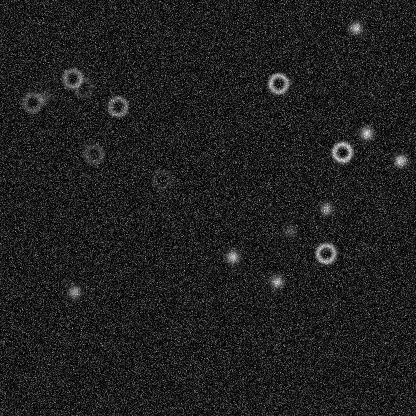Ring: (105, 94, 129, 118), (60, 66, 84, 90), (20, 90, 44, 114), (266, 71, 290, 95), (71, 75, 95, 99), (330, 140, 354, 164), (313, 241, 337, 265), (81, 141, 105, 165), (149, 167, 173, 191)
Spot: (282, 223, 298, 239), (66, 283, 82, 299), (268, 273, 284, 289), (317, 200, 333, 216), (392, 152, 408, 168), (347, 19, 363, 35), (36, 89, 52, 105), (224, 248, 240, 264), (358, 125, 374, 141)
